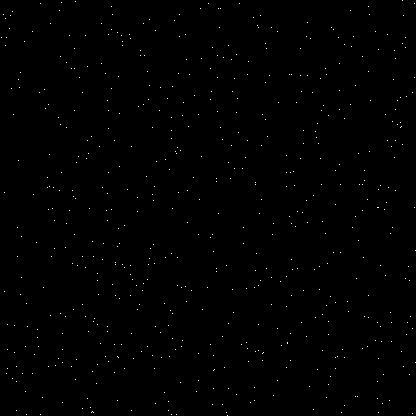Others: (78, 26, 343, 378)
